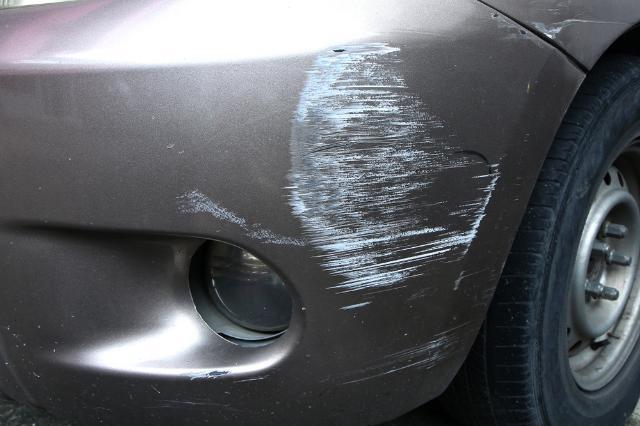scratch: (165, 36, 512, 384), (166, 368, 281, 409), (537, 0, 629, 38), (492, 13, 546, 52)
